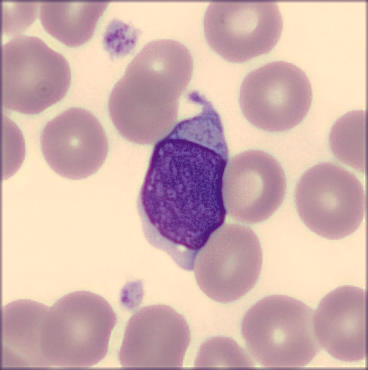WBC: (136, 87, 231, 274)
